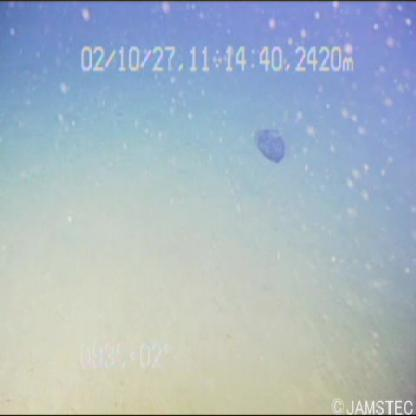Rác: (249, 116, 290, 168)
